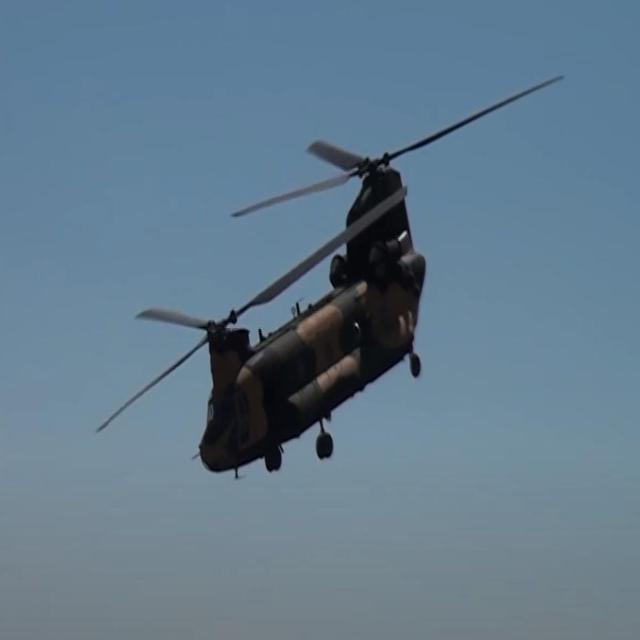Helicopter: (95, 99, 499, 486)
